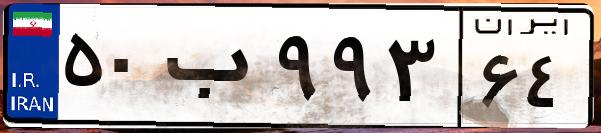0: (110, 28, 158, 98)
3: (385, 28, 445, 110)
4: (525, 38, 570, 115)
5: (57, 26, 110, 100)
6: (475, 38, 525, 113)
9: (270, 28, 330, 110), (330, 28, 385, 110)
ب: (158, 20, 270, 120)
